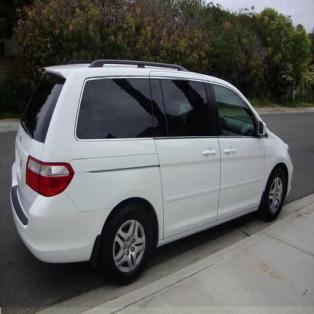Auto: (8, 56, 294, 288)
